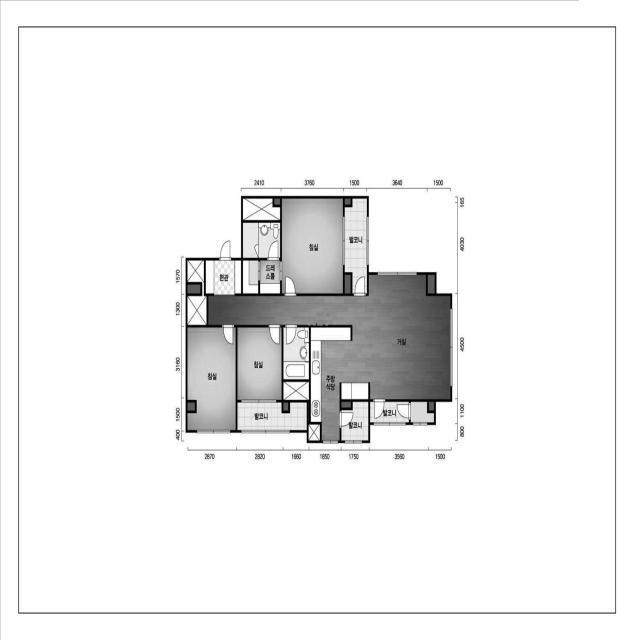space_balconi: (345, 198, 367, 294), (237, 402, 307, 430), (341, 401, 369, 441), (370, 402, 409, 423)
space_bedroom: (282, 198, 343, 294), (187, 327, 236, 430), (237, 327, 282, 400)
space_dressroom: (243, 260, 280, 294)
space_front: (206, 260, 241, 295)
space_kitchen: (311, 327, 369, 441)
space_living_room: (208, 275, 450, 399)
space_other: (187, 260, 207, 325), (243, 198, 280, 220), (410, 402, 434, 423), (283, 381, 309, 400), (308, 424, 320, 441), (428, 275, 435, 294), (187, 284, 200, 294), (345, 275, 351, 294), (187, 402, 195, 411), (341, 402, 351, 408), (283, 402, 288, 411), (429, 402, 434, 411), (274, 198, 280, 205), (345, 199, 351, 205)
space_toilet: (283, 327, 309, 379), (243, 222, 280, 258)
